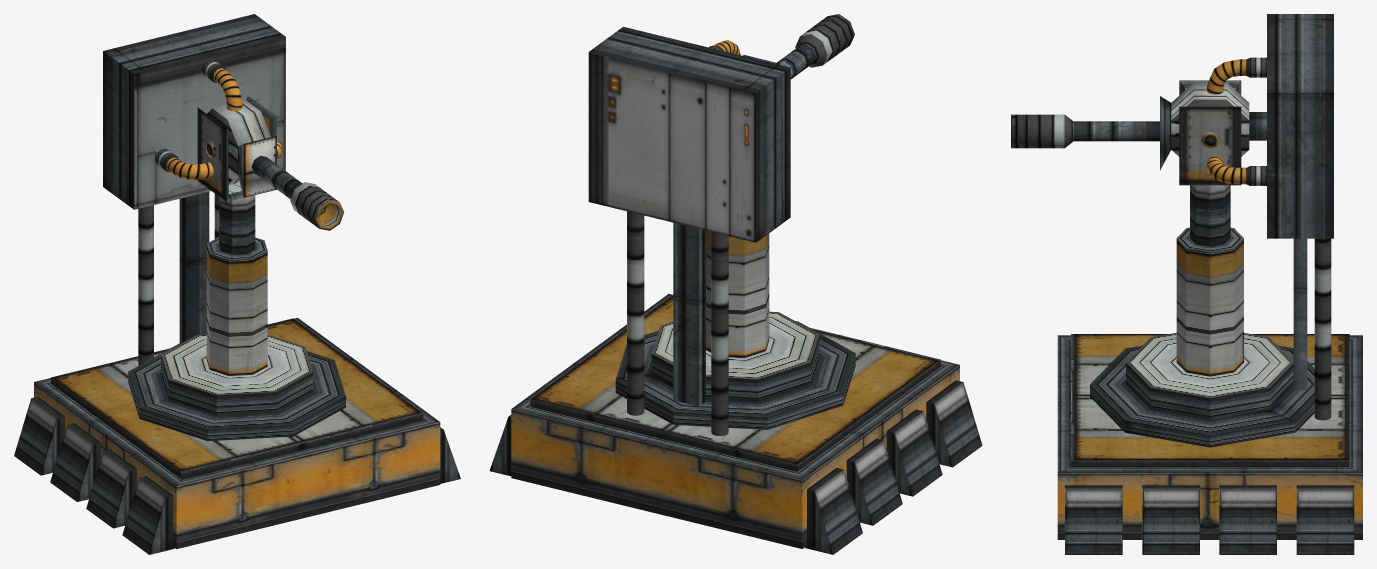
File: torreta1.fbx
3 renders of one model, left to right at view 1: azimuth 30°, elevation 25°; view 2: azimuth 150°, elevation 25°; view 3: azimuth 270°, elevation 25°, orthographic. The views are drawn at different scales.
Parts seen in each view (by area): view 1: Cylinder, Cylinder.001; view 2: Cylinder, Cylinder.001; view 3: Cylinder, Cylinder.001.
Part boxes in pixels (<box>): Cylinder: <box>103,14,345,441</box>; Cylinder.001: <box>14,317,460,554</box>; Cylinder: <box>588,14,855,436</box>; Cylinder.001: <box>489,294,982,554</box>; Cylinder: <box>1011,14,1333,447</box>; Cylinder.001: <box>1057,334,1362,554</box>.
Bounding box in the file's own units: 2.49 × 3 × 2.28.
